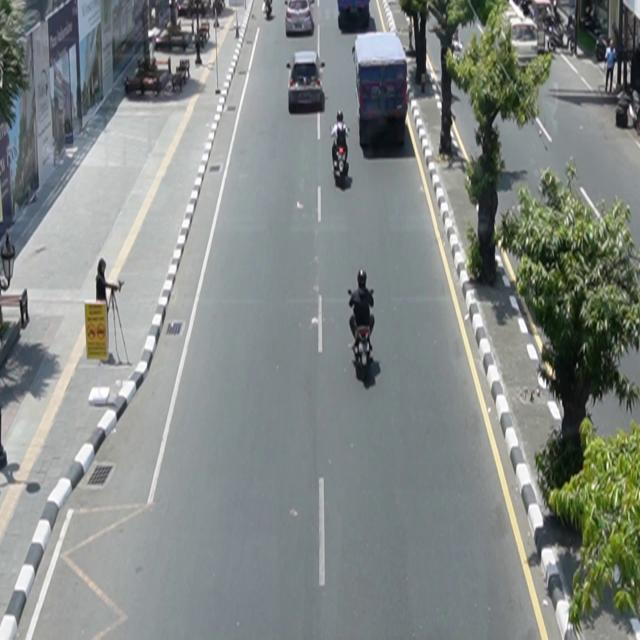bus: (353, 31, 409, 148)
car: (287, 51, 327, 114)
